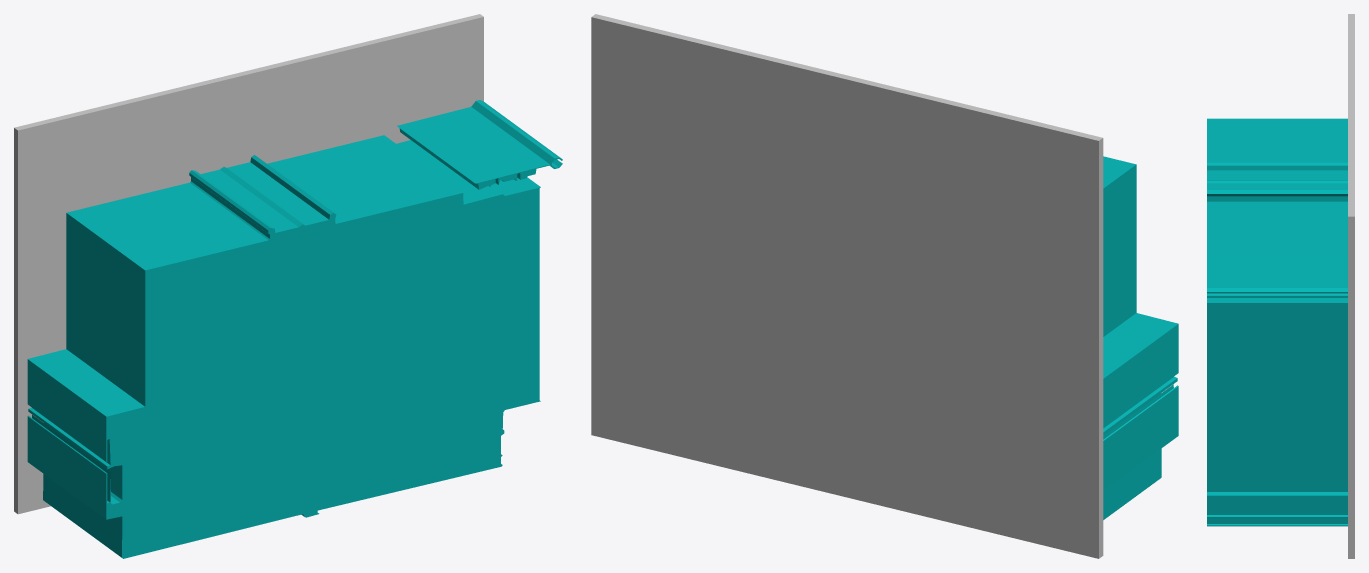
3 views of the same model, side by side, from view 1: azimuth 30°, elevation 25°; view 2: azimuth 150°, elevation 25°; view 3: azimuth 270°, elevation 25° (orthographic). The views are drawn at different scales.
Parts seen in each view (by area): view 1: world; view 2: world; view 3: world.
Part boxes in pixels (<box>): world: <box>14,14,562,558</box>; world: <box>591,14,1178,558</box>; world: <box>1207,14,1354,558</box>.
Size of the model in its own units: 10.23 by 8.05 by 3.15.
